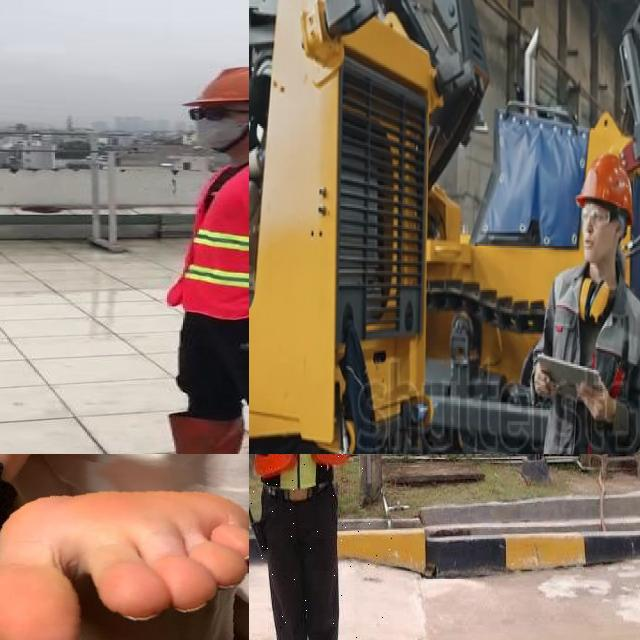Barefoots: (0, 460, 249, 640)
Ear-protection: (582, 273, 611, 323)
boots: (120, 414, 243, 454)
face_mask: (186, 104, 248, 150)
glasses: (180, 103, 242, 124), (582, 202, 616, 229)
head_helmet: (572, 110, 636, 215), (180, 62, 249, 111)
person: (115, 56, 249, 454), (528, 94, 640, 454), (249, 454, 393, 640)
vest: (167, 157, 249, 321), (256, 454, 348, 496)
